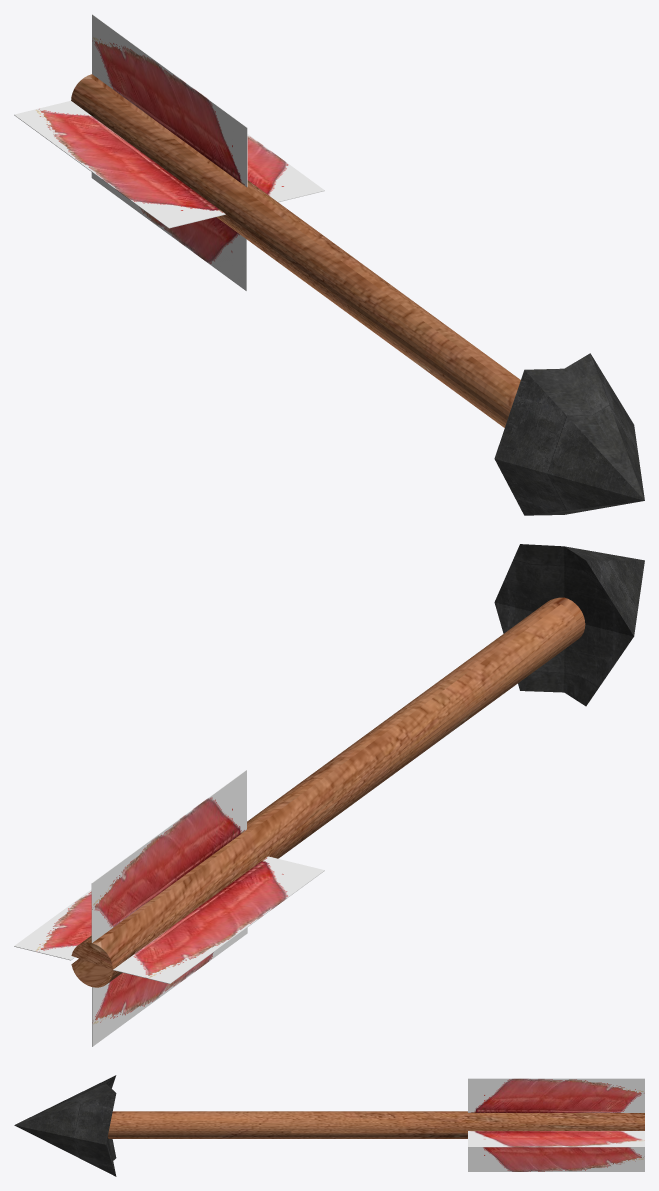
File: arrow.fbx
The picture shows the model from 3 angles, top to bottom: view 1: azimuth 30°, elevation 25°; view 2: azimuth 150°, elevation 25°; view 3: azimuth 270°, elevation 25°; orthographic projection. The views are drawn at different scales.
Parts seen in each view (by area): view 1: Cylinder.005, Cylinder, Cylinder.001; view 2: Cylinder, Cylinder.005, Cylinder.001; view 3: Cylinder.005, Cylinder, Cylinder.001.
Part boxes in pixels (x1,y1,x2,y2): Cylinder.005: (14, 14, 324, 291); Cylinder: (71, 74, 520, 427); Cylinder.001: (494, 353, 644, 515); Cylinder: (71, 597, 585, 987); Cylinder.005: (14, 770, 324, 1046); Cylinder.001: (494, 544, 644, 706); Cylinder.005: (468, 1078, 644, 1171); Cylinder: (107, 1111, 644, 1138); Cylinder.001: (14, 1075, 116, 1176).
Size of the model in its own units: 59.55 by 59.55 by 365.
